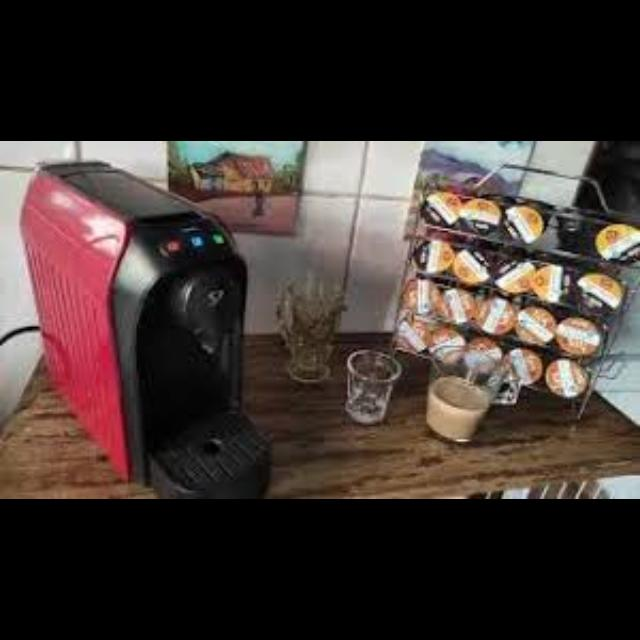Coffee-Machine: (10, 157, 278, 499)
